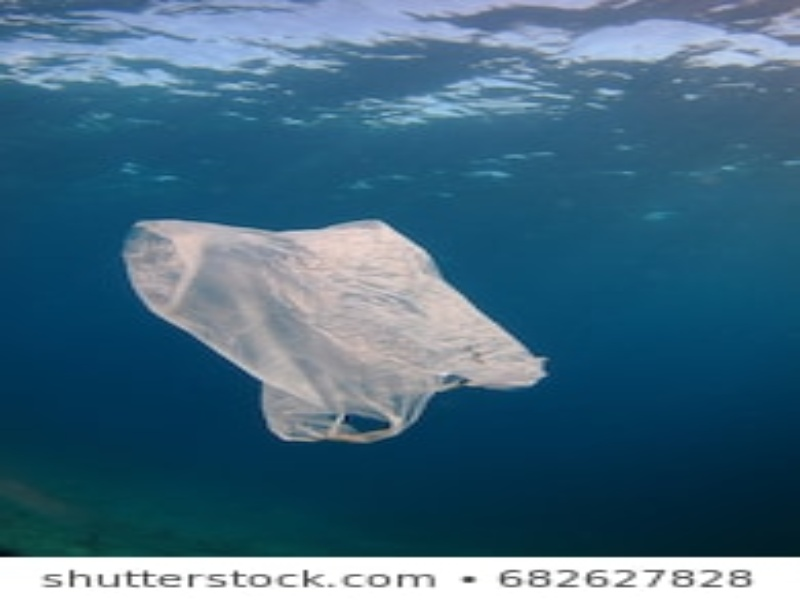plastic-bag: (119, 213, 551, 445)
